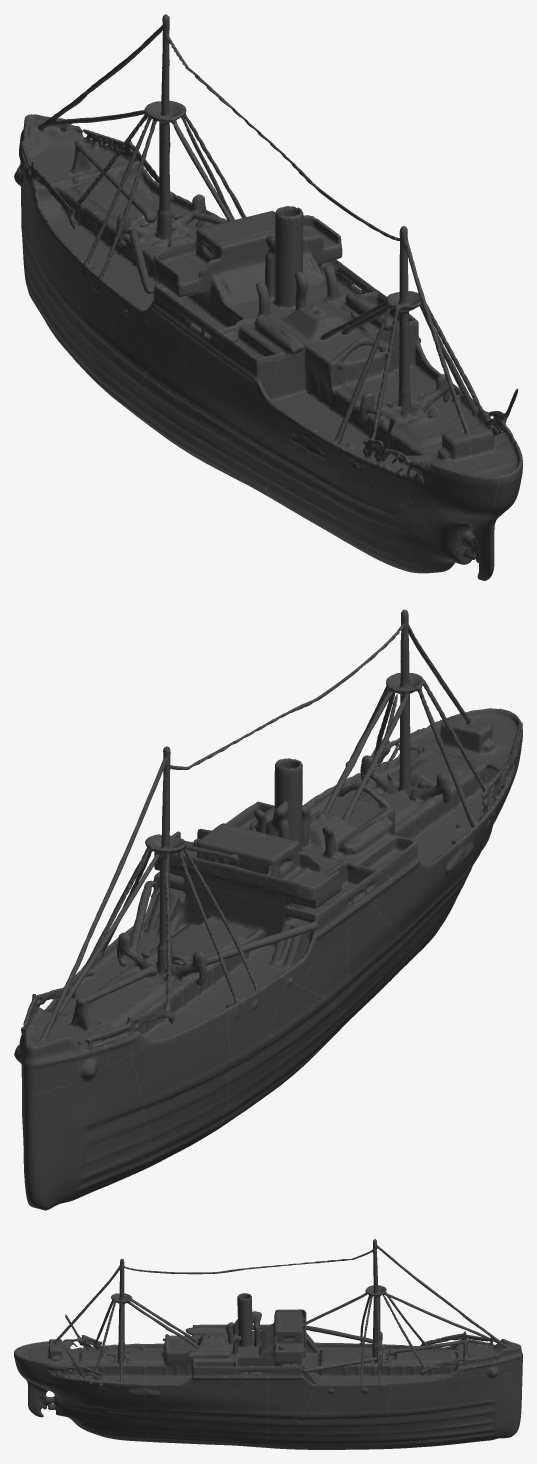
Rendered from not-available.glb.
3 views of the same model, one above another, from view 1: azimuth 30°, elevation 25°; view 2: azimuth 150°, elevation 25°; view 3: azimuth 270°, elevation 25° (orthographic). The views are drawn at different scales.
Visible parts, largest first — view 1: tripo_node_ec5e5b0c-9bb6-45e9-95d5-777b488d8ee1; view 2: tripo_node_ec5e5b0c-9bb6-45e9-95d5-777b488d8ee1; view 3: tripo_node_ec5e5b0c-9bb6-45e9-95d5-777b488d8ee1.
Boxes of the visible parts, box(x1,y1,x2,y2) form: tripo_node_ec5e5b0c-9bb6-45e9-95d5-777b488d8ee1: box(14, 14, 522, 580); tripo_node_ec5e5b0c-9bb6-45e9-95d5-777b488d8ee1: box(14, 609, 522, 1210); tripo_node_ec5e5b0c-9bb6-45e9-95d5-777b488d8ee1: box(14, 1239, 522, 1449).
Bounding box in the file's own units: 0.4168 × 0.8575 × 2.
Materials: 1 (1 with a texture image).
